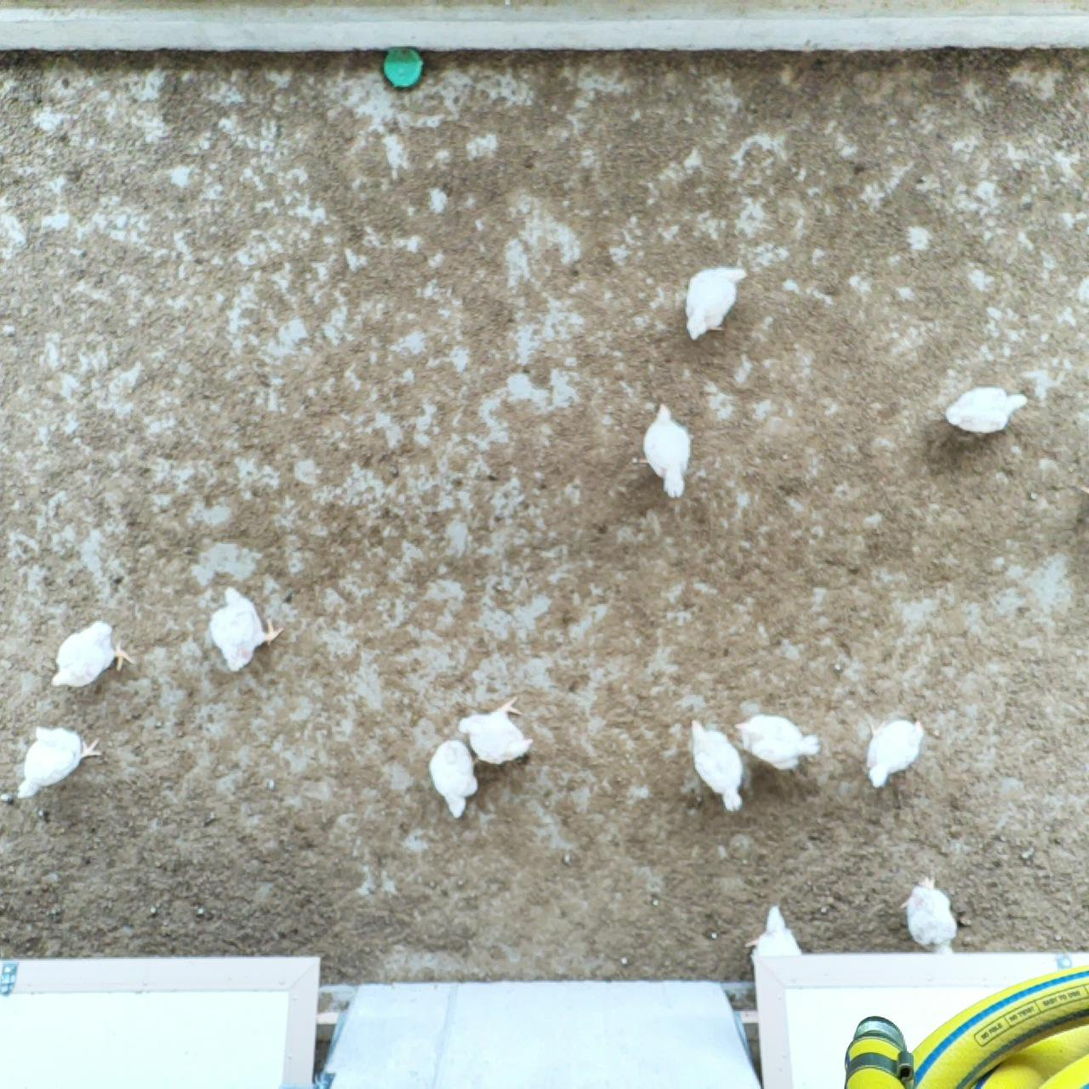chicken: (11, 720, 104, 801), (46, 617, 134, 692), (208, 584, 282, 673), (455, 694, 536, 770), (683, 717, 744, 814), (898, 872, 959, 961), (735, 712, 821, 774), (684, 265, 750, 345), (641, 401, 694, 500), (744, 901, 806, 984), (864, 713, 930, 790), (943, 384, 1033, 435), (428, 738, 481, 821)
